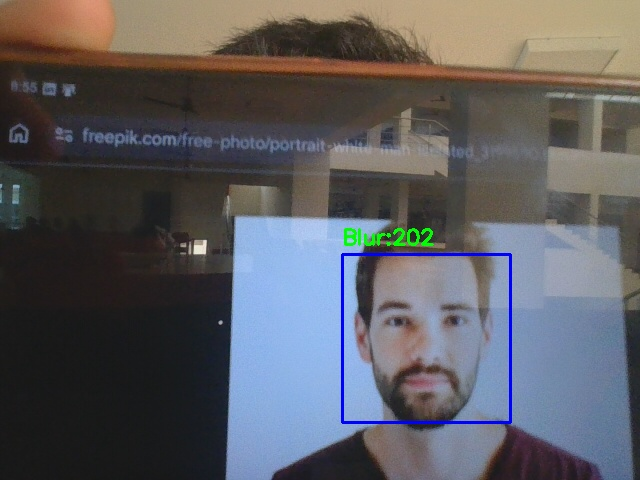fake: (342, 254, 510, 422)
